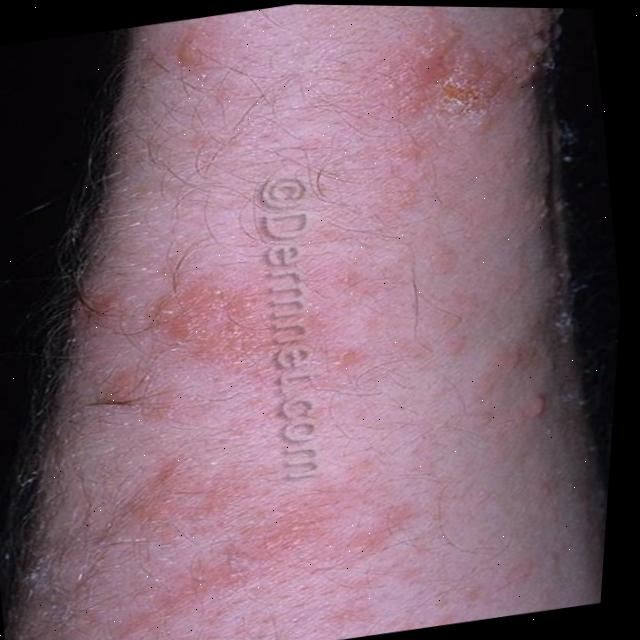Eczema: (63, 2, 640, 596)
